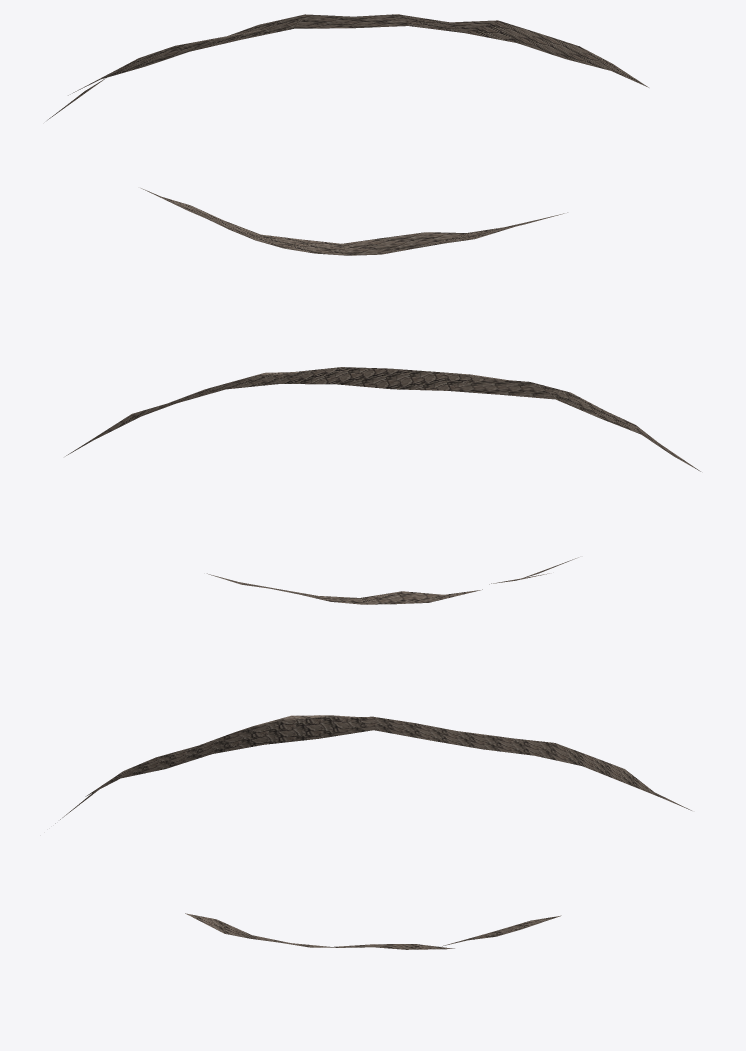
The model's file is crater.glb.
3 renders of one model, top to bottom at view 1: azimuth 30°, elevation 25°; view 2: azimuth 150°, elevation 25°; view 3: azimuth 270°, elevation 25°, orthographic.
Parts seen in each view (by area): view 1: crater; view 2: crater; view 3: crater.
Part boxes in pixels (left/top/right/bottom): crater: left=47, top=14, right=648, bottom=255; crater: left=65, top=367, right=700, bottom=604; crater: left=55, top=715, right=691, bottom=949.
Size of the model in its own units: 14.49 by 1.71 by 14.49.
2 materials, 1 textured.
